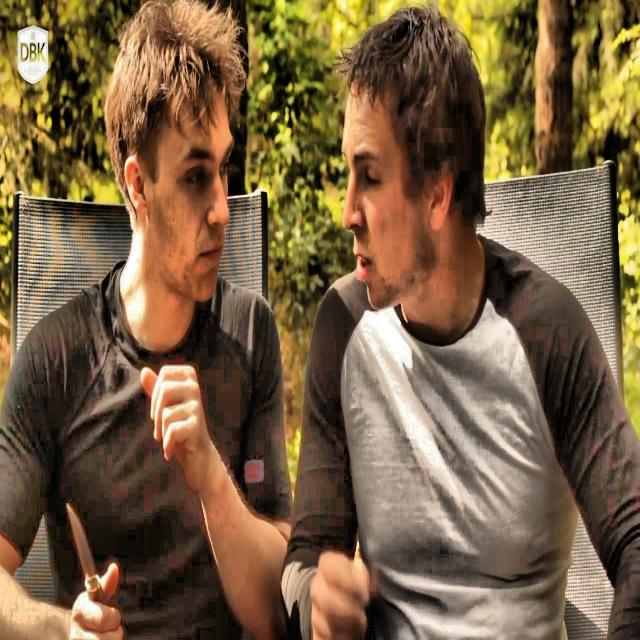knife: (65, 506, 108, 607)
